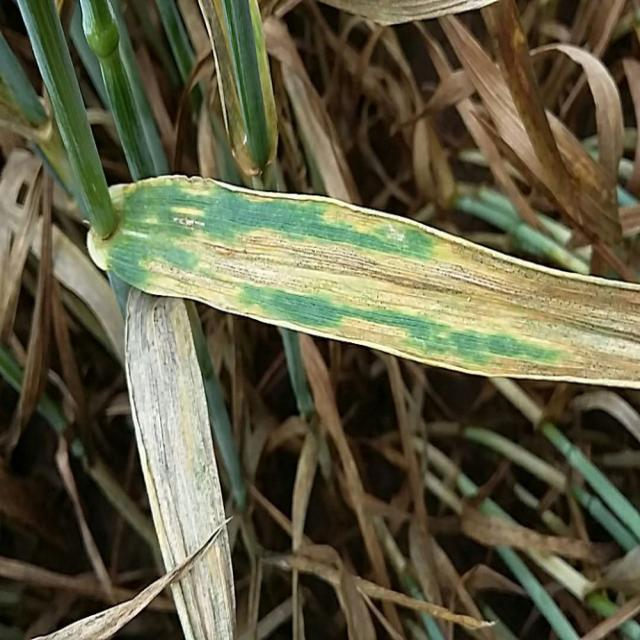wheat-septoria: (96, 175, 640, 391)
